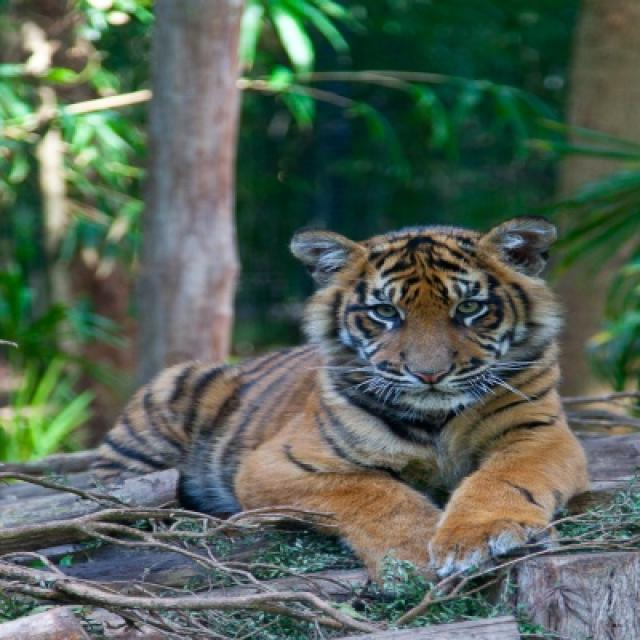Tiger: (94, 217, 589, 581)
